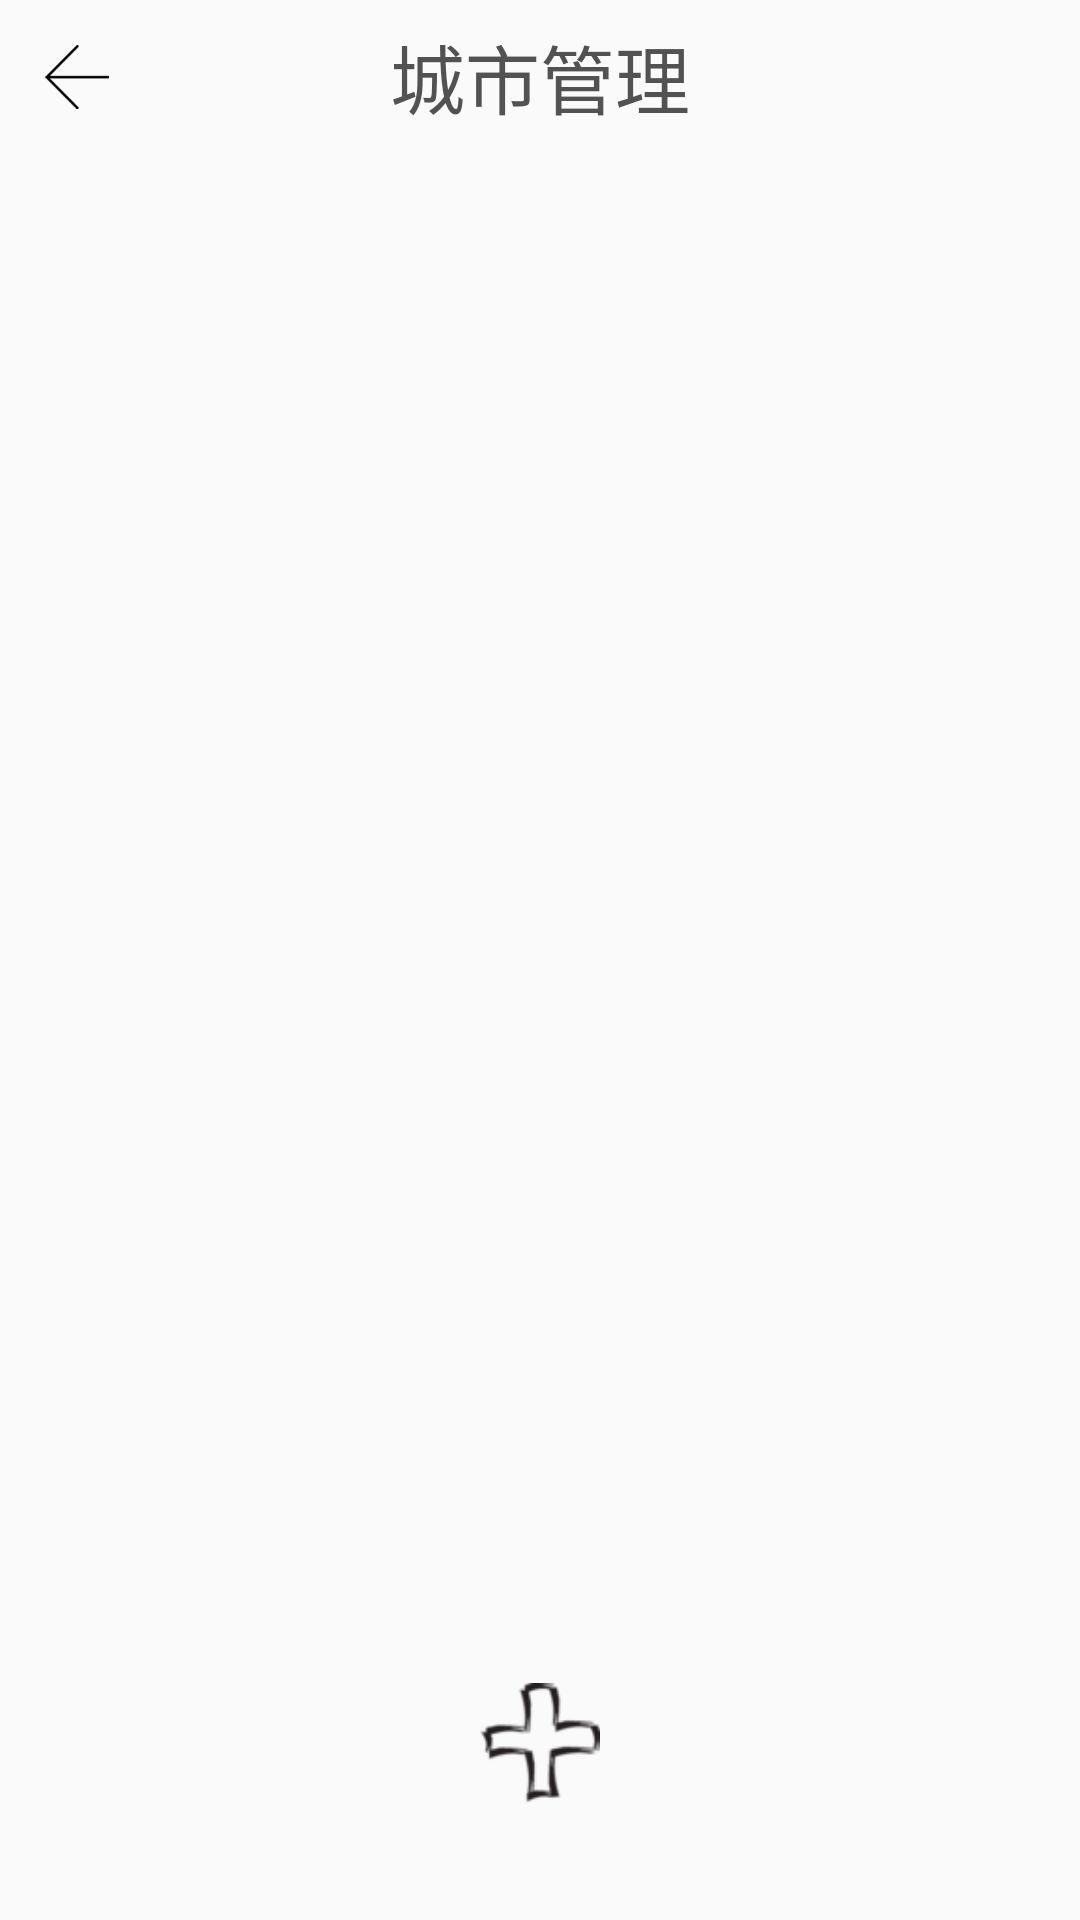

Where icons sit on this 1080w x 1920h app screen, as BBox(x1, y1, x2, y2):
add: BBox(480, 1683, 600, 1802)
back: BBox(45, 45, 109, 109)
